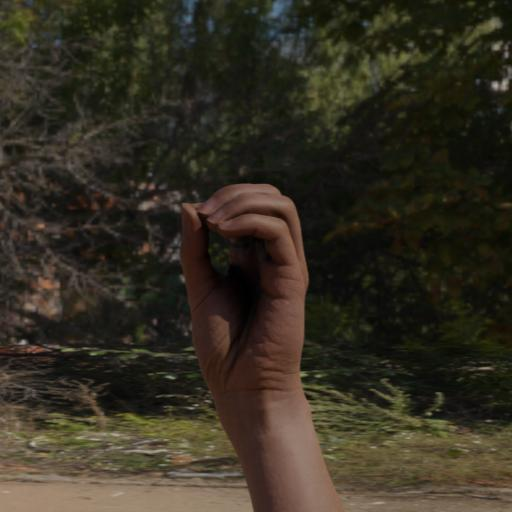O: (163, 152, 319, 418)
